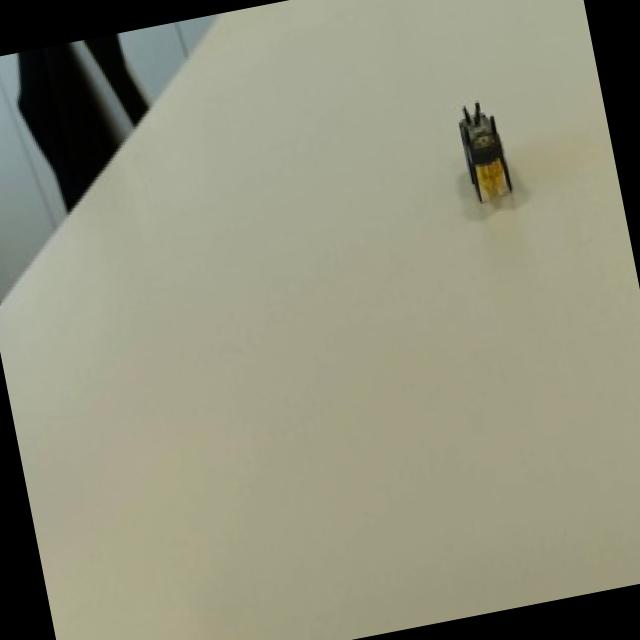6_NanoBug_GrisOscuro: (417, 58, 538, 226)
